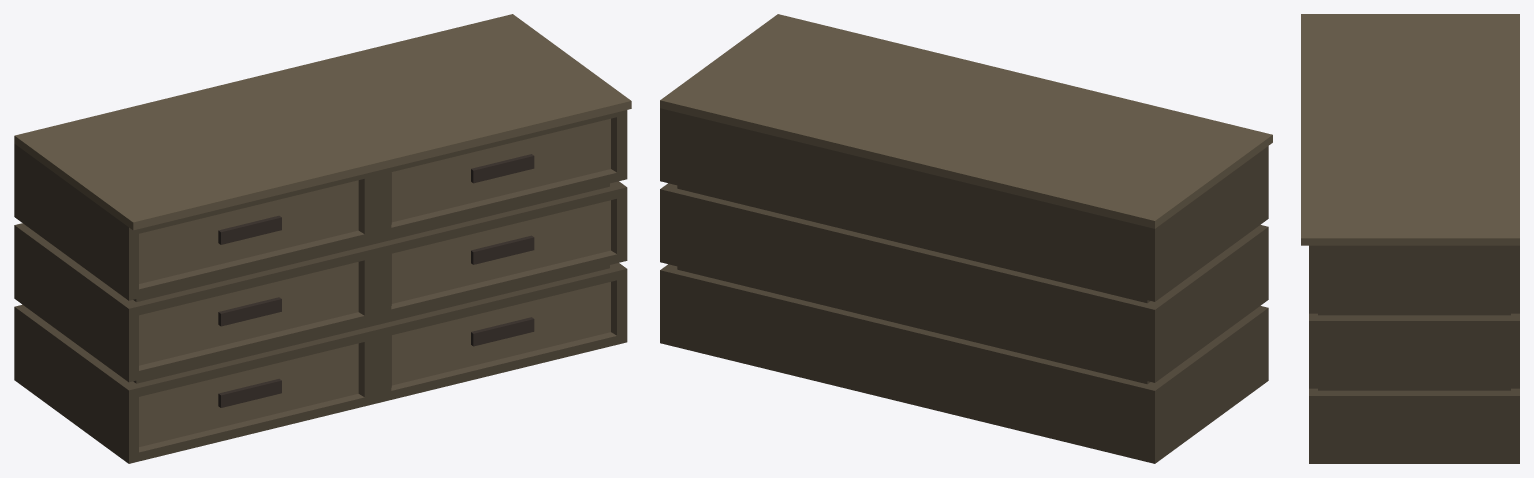
Rendered from Drawer_5.glb.
3 renders of one model, left to right at view 1: azimuth 30°, elevation 25°; view 2: azimuth 150°, elevation 25°; view 3: azimuth 270°, elevation 25°, orthographic. The views are drawn at different scales.
Parts seen in each view (by area): view 1: Drawer_5; view 2: Drawer_5; view 3: Drawer_5.
Boxes of the visible parts, x1,y1,x2,y2 form: Drawer_5: (14,14,631,463); Drawer_5: (660,14,1272,463); Drawer_5: (1301,14,1519,463).
Size of the model in its own units: 1.37 by 0.6514 by 0.5637.
3 materials, 3 textured.
